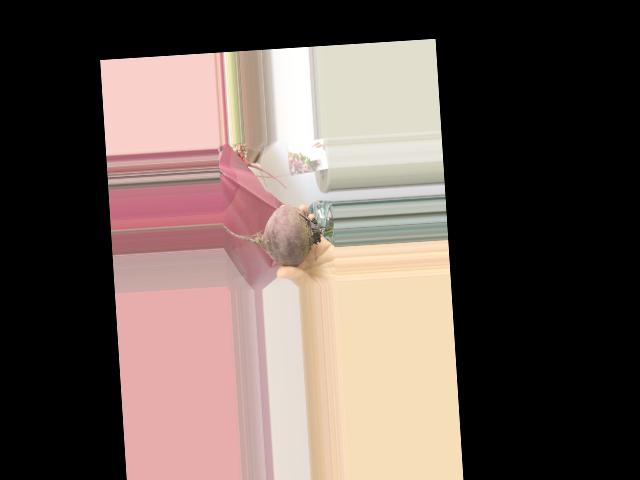beet: (221, 202, 336, 270)
